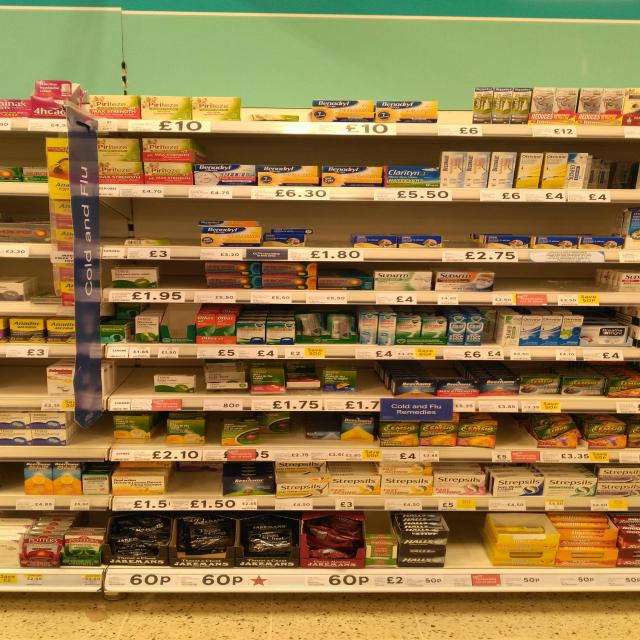void: (500, 262, 618, 294), (451, 511, 493, 568), (593, 138, 638, 190), (442, 202, 479, 250), (0, 360, 44, 400), (110, 358, 152, 398), (70, 412, 112, 447), (500, 412, 538, 450)
